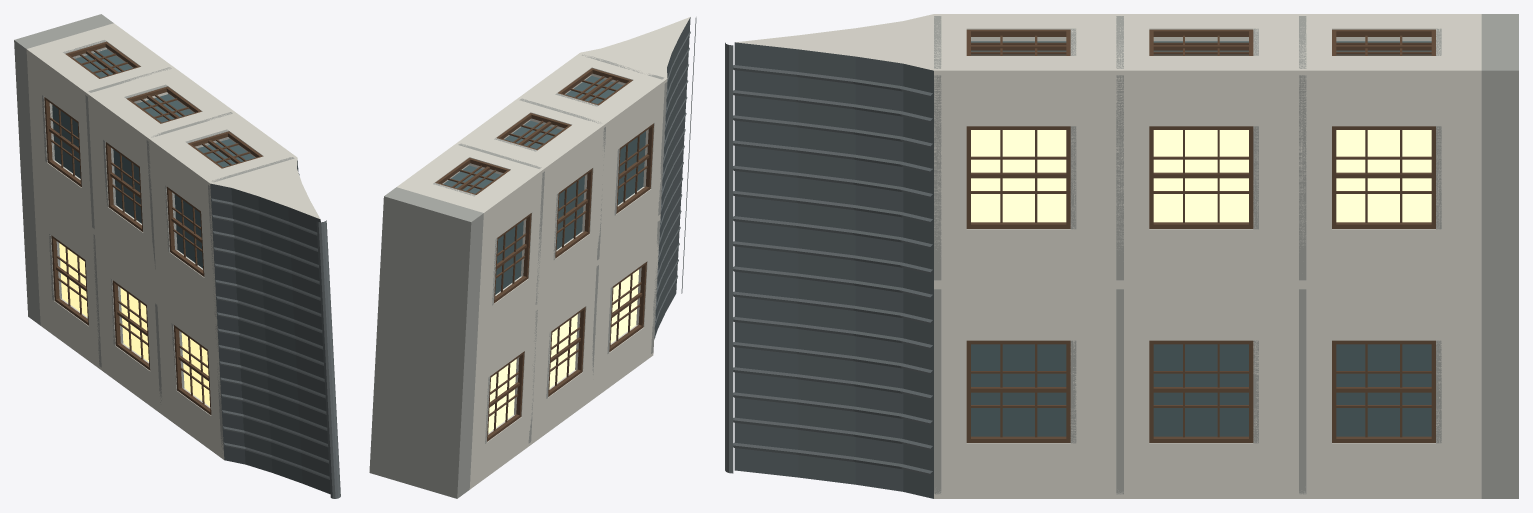
The model's file is historic-near.glb.
The picture shows the model from 3 angles, left to right: view 1: azimuth 30°, elevation 25°; view 2: azimuth 150°, elevation 25°; view 3: azimuth 270°, elevation 25°; orthographic projection. The views are drawn at different scales.
Parts seen in each view (by area): view 1: way/501927117; view 2: way/501927117; view 3: way/501927117.
Part boxes in pixels (x1,y1,x2,y2): way/501927117: [14, 14, 340, 498]; way/501927117: [369, 17, 696, 498]; way/501927117: [725, 14, 1518, 498].
Bounding box in the file's own units: 2.82 × 7.53 × 12.76.
